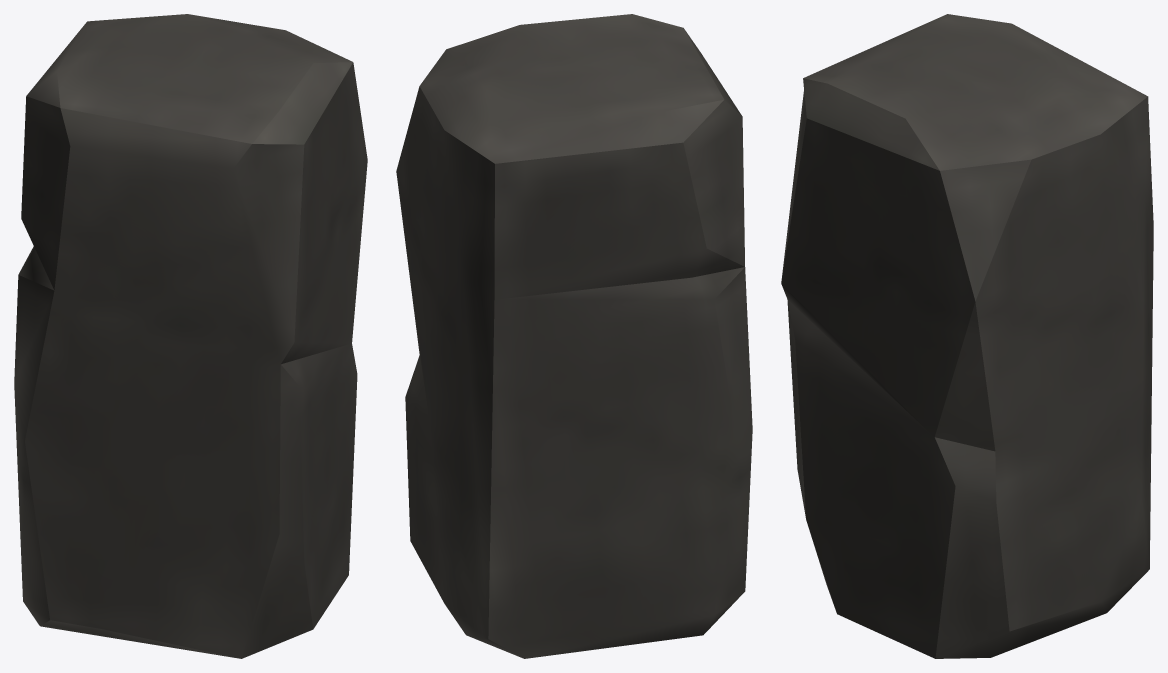
File: Block1.fbx
The picture shows the model from 3 angles, left to right: view 1: azimuth 30°, elevation 25°; view 2: azimuth 150°, elevation 25°; view 3: azimuth 270°, elevation 25°; orthographic projection. The views are drawn at different scales.
Visible parts, largest first — view 1: Block1; view 2: Block1; view 3: Block1.
Boxes of the visible parts, x1,y1,x2,y2 form: Block1: (14, 14, 367, 658); Block1: (396, 14, 752, 658); Block1: (781, 14, 1153, 658).
Size of the model in its own units: 114 by 167 by 108.
1 material, 1 textured.
